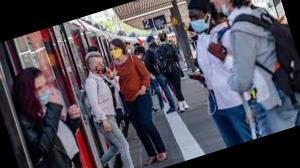mask_weared_incorrect: (206, 1, 232, 17)
with_mask: (34, 80, 54, 105), (186, 10, 209, 30), (91, 58, 107, 73), (108, 45, 124, 59), (186, 30, 199, 42), (124, 44, 134, 54), (135, 51, 143, 61)
